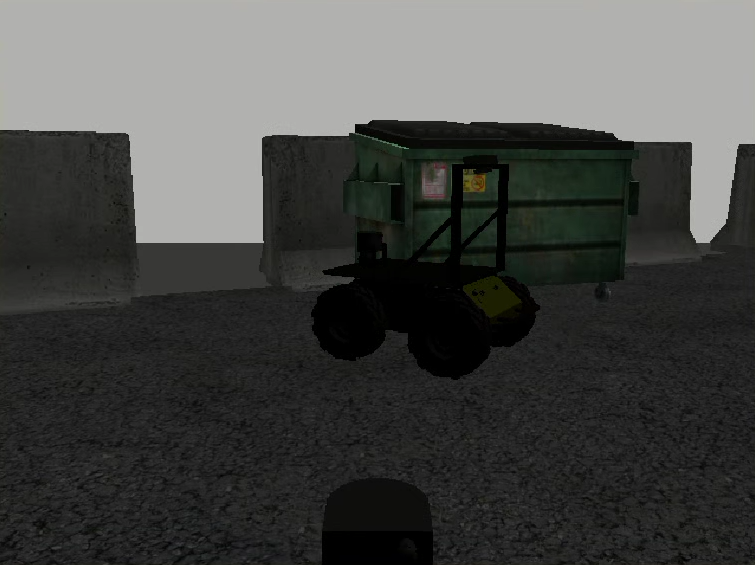husky: (311, 258, 544, 380)
